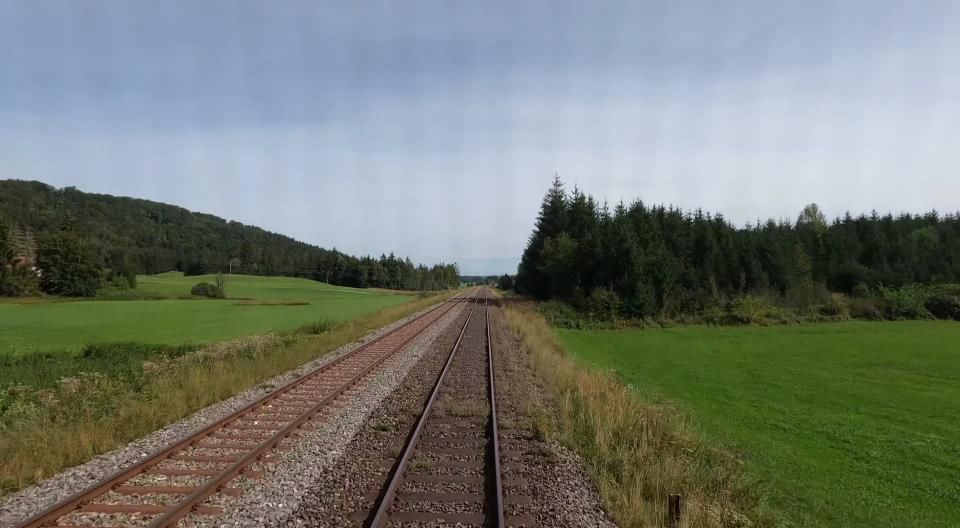Plant: (488, 306, 555, 443), (432, 393, 488, 425), (440, 343, 462, 394), (527, 445, 557, 465), (408, 457, 432, 472), (374, 423, 393, 432)
